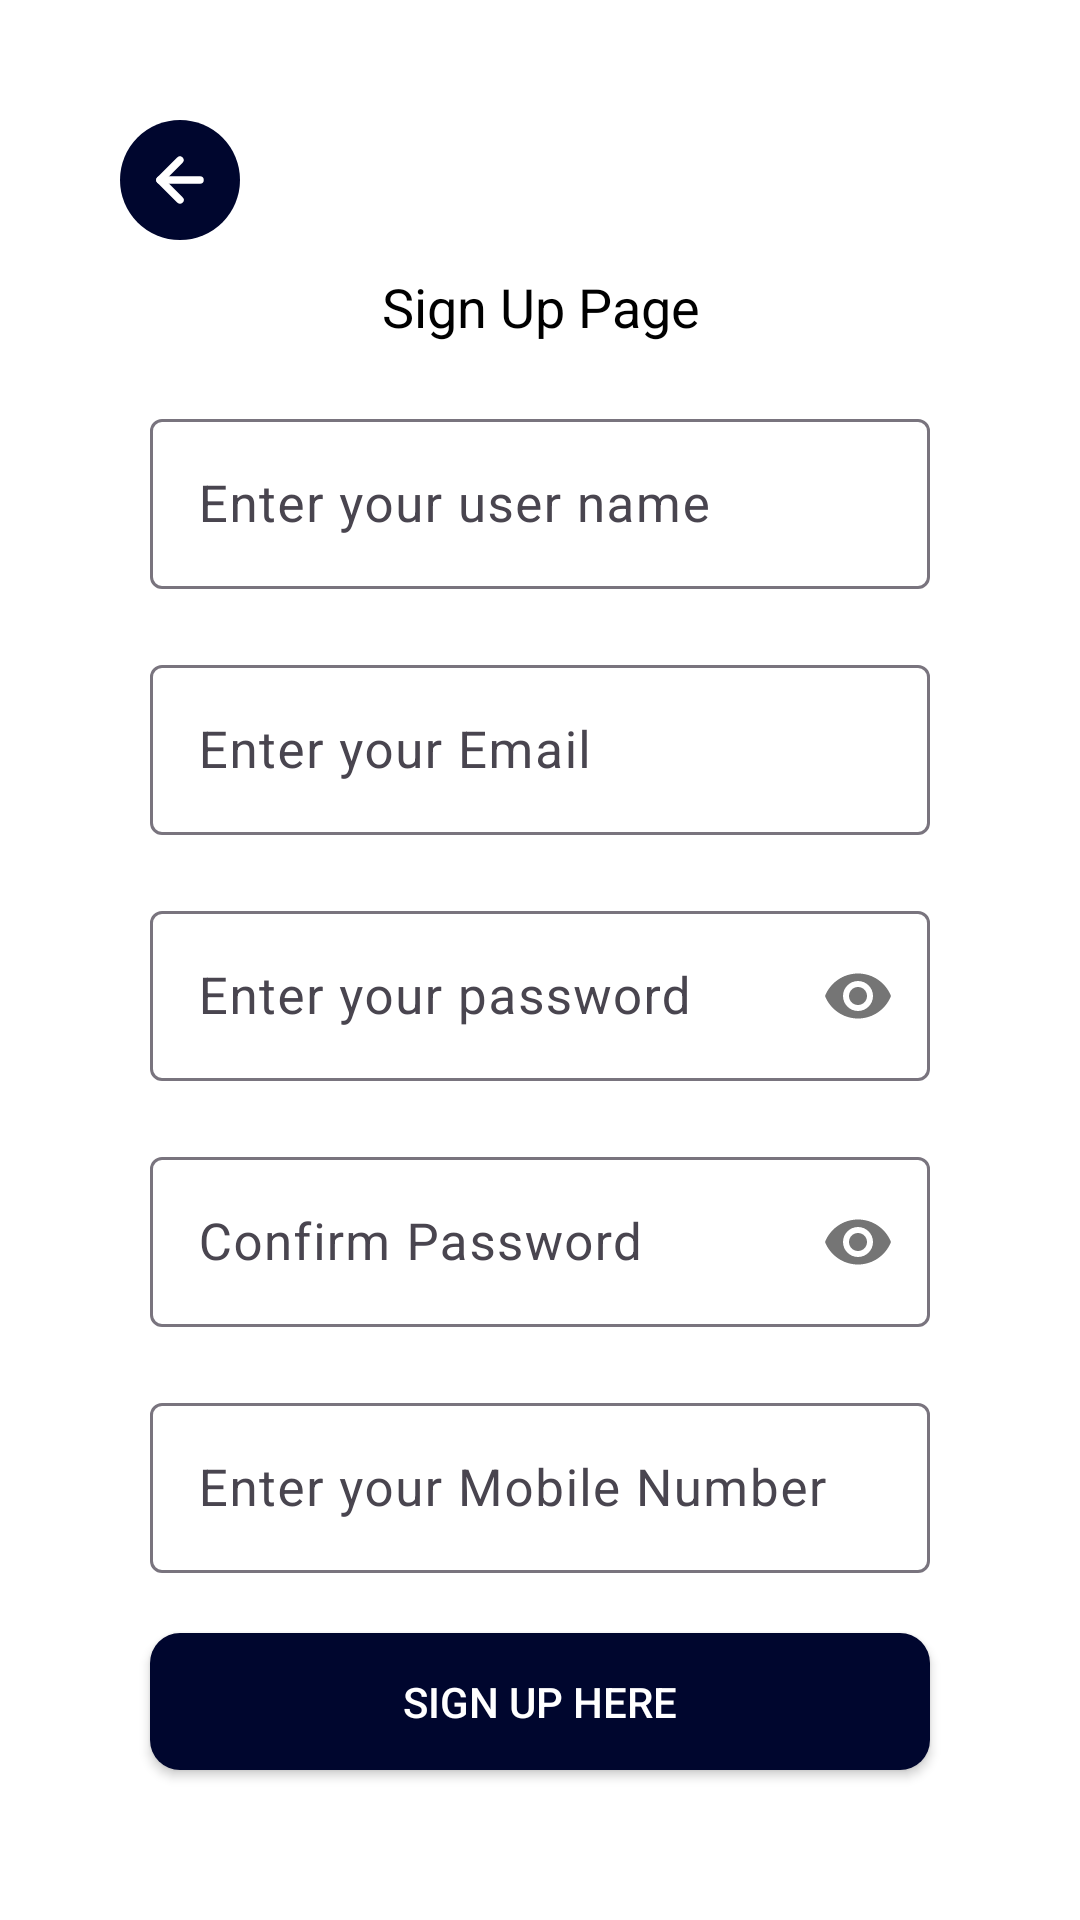

Icon bounding boxes for this 1080px x 1920px phone screenshot, format BBox(x1, y1, x2, y2):
backbtn: BBox(120, 120, 240, 240)
